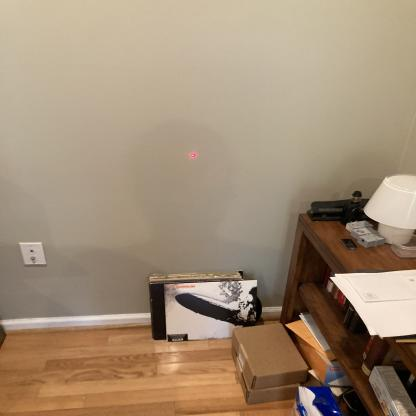target: (189, 155, 201, 159)
